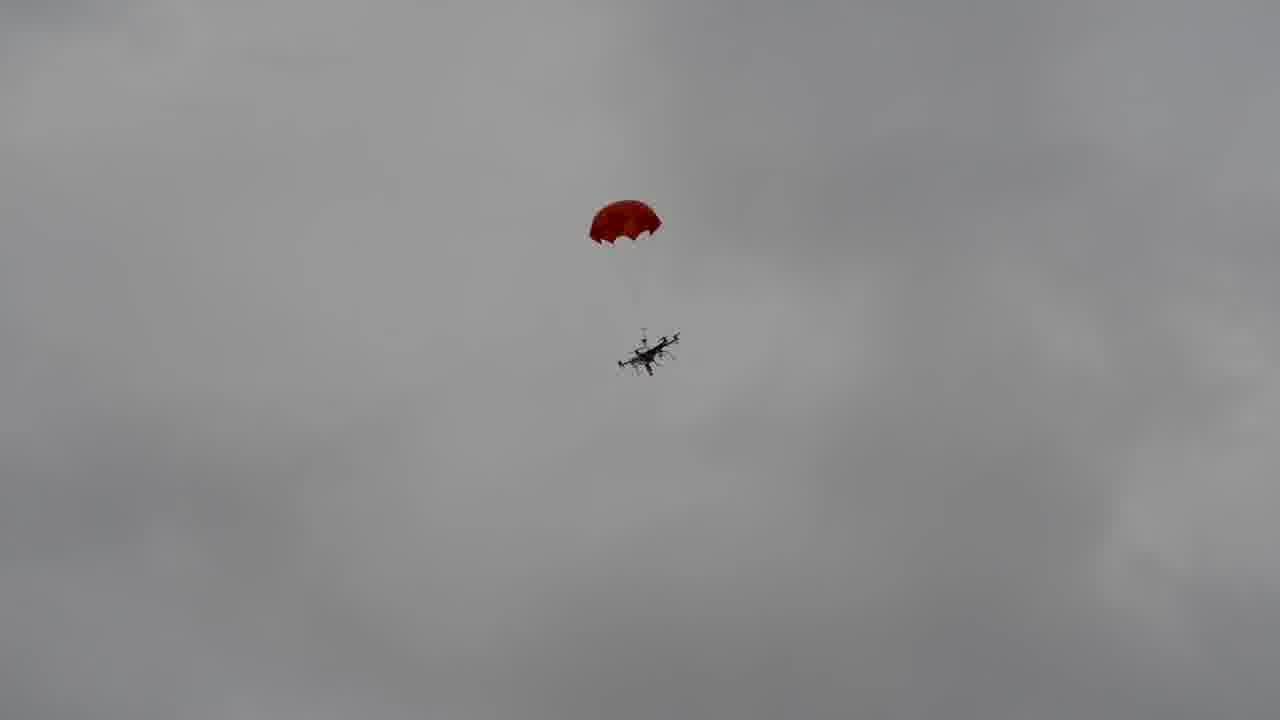drone: (603, 324, 686, 383)
